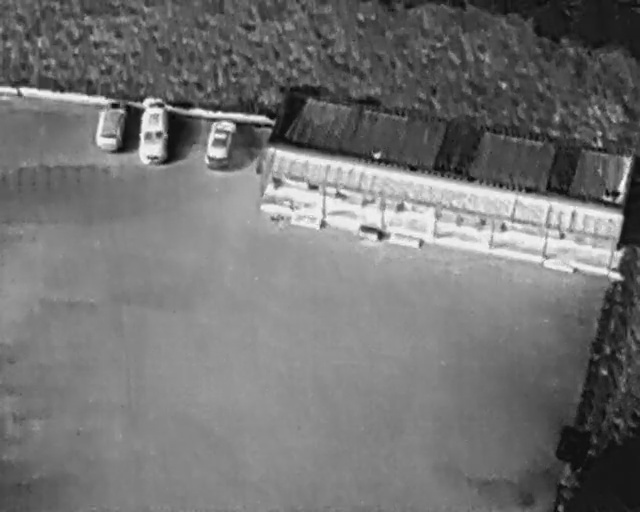Car: (94, 96, 131, 155), (203, 114, 239, 172), (142, 97, 169, 165)
